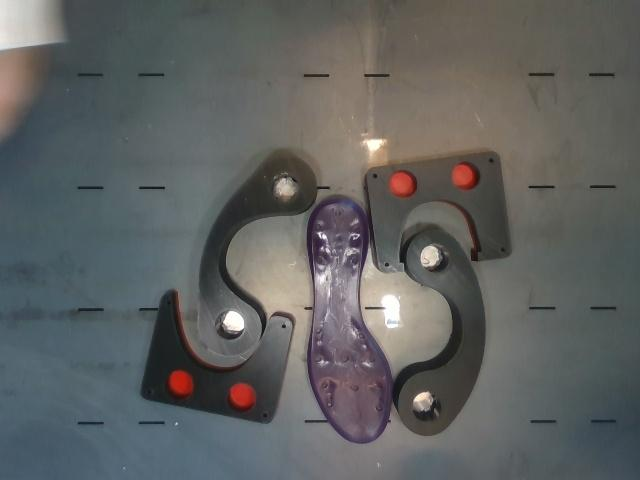shoes: (307, 196, 391, 443)
